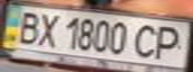0: (109, 19, 133, 56), (90, 17, 112, 54)
1: (60, 13, 81, 51)
8: (75, 16, 96, 52)
B: (9, 8, 45, 45)
C: (130, 21, 163, 60)
P: (148, 22, 190, 61)
X: (33, 10, 63, 48)
